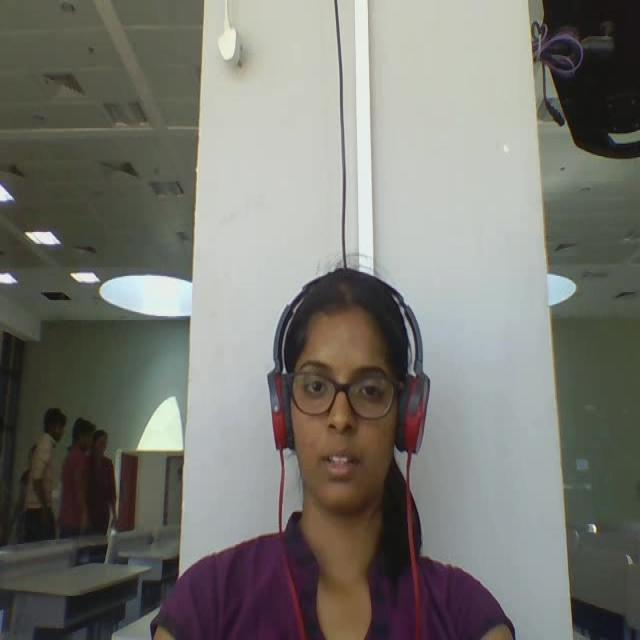Engaged: (256, 259, 445, 534)
